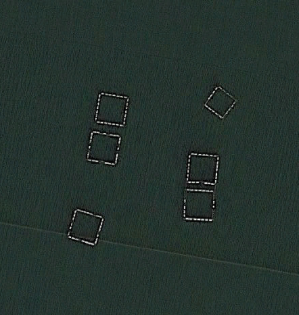square: (60, 200, 113, 254), (177, 186, 232, 232), (77, 125, 128, 172), (87, 85, 135, 133), (204, 81, 244, 123), (182, 145, 220, 186)
